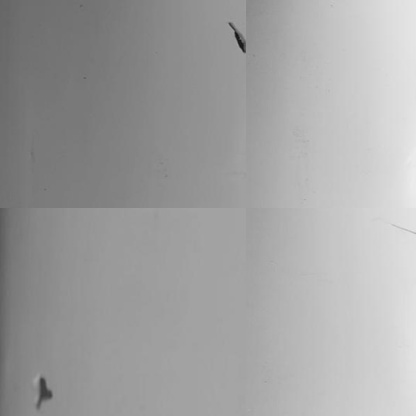kongdong: (31, 370, 55, 407), (228, 19, 246, 54)
